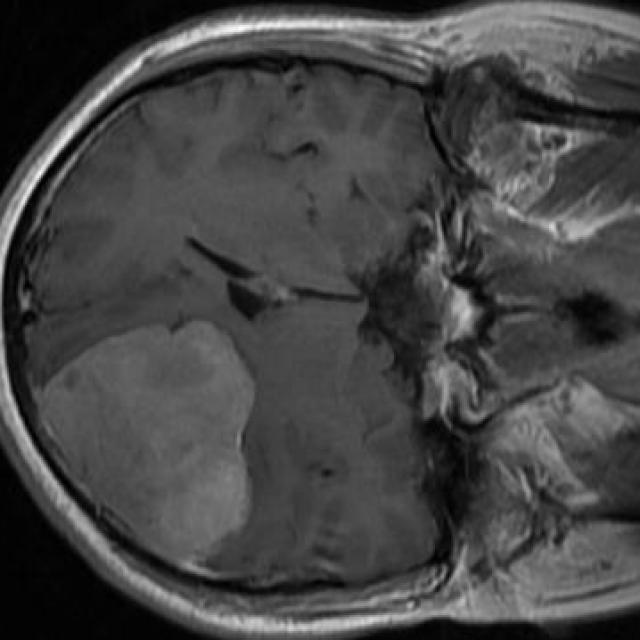meningioma: (34, 323, 255, 567)
